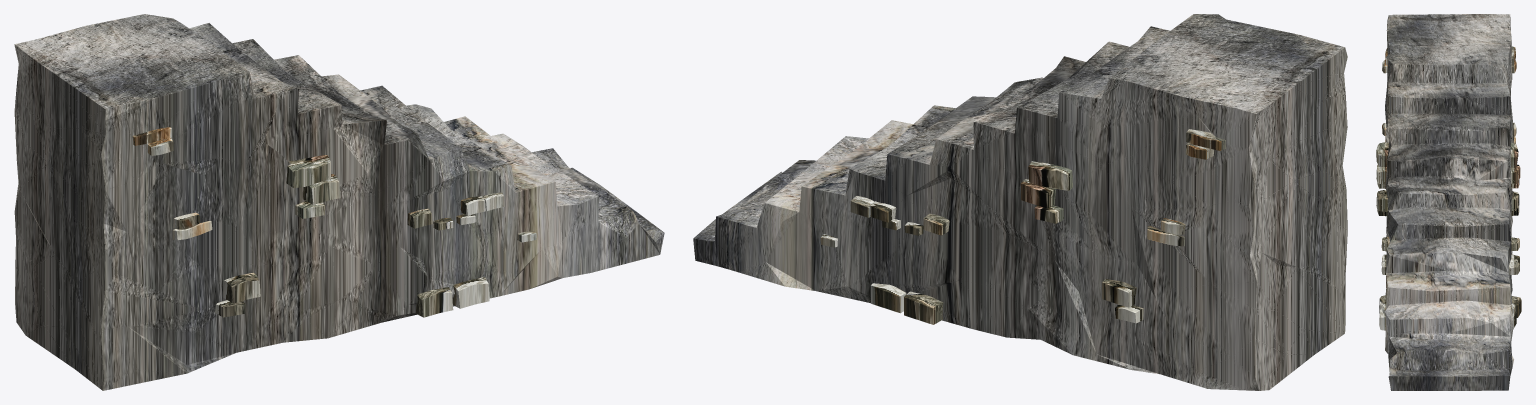
The model's file is EscaleraPiedra.fbx.
3 views of the same model, side by side, from view 1: azimuth 30°, elevation 25°; view 2: azimuth 150°, elevation 25°; view 3: azimuth 270°, elevation 25° (orthographic). The views are drawn at different scales.
Visible parts, largest first — view 1: Escalera; view 2: Escalera; view 3: Escalera.
Boxes of the visible parts, bbox=[...] form: Escalera: bbox=[14, 14, 664, 390]; Escalera: bbox=[693, 14, 1347, 390]; Escalera: bbox=[1376, 14, 1521, 390].
Bounding box in the file's own units: 0.9581 × 0.4596 × 0.3163.
